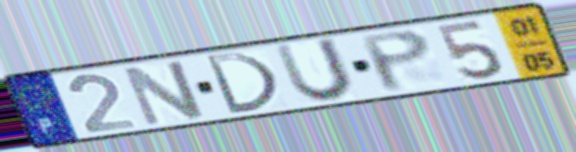2: (65, 72, 143, 135)
5: (432, 17, 506, 83)
D: (201, 51, 282, 116)
N: (119, 57, 209, 129)
P: (355, 27, 434, 94)
U: (270, 35, 359, 105)
